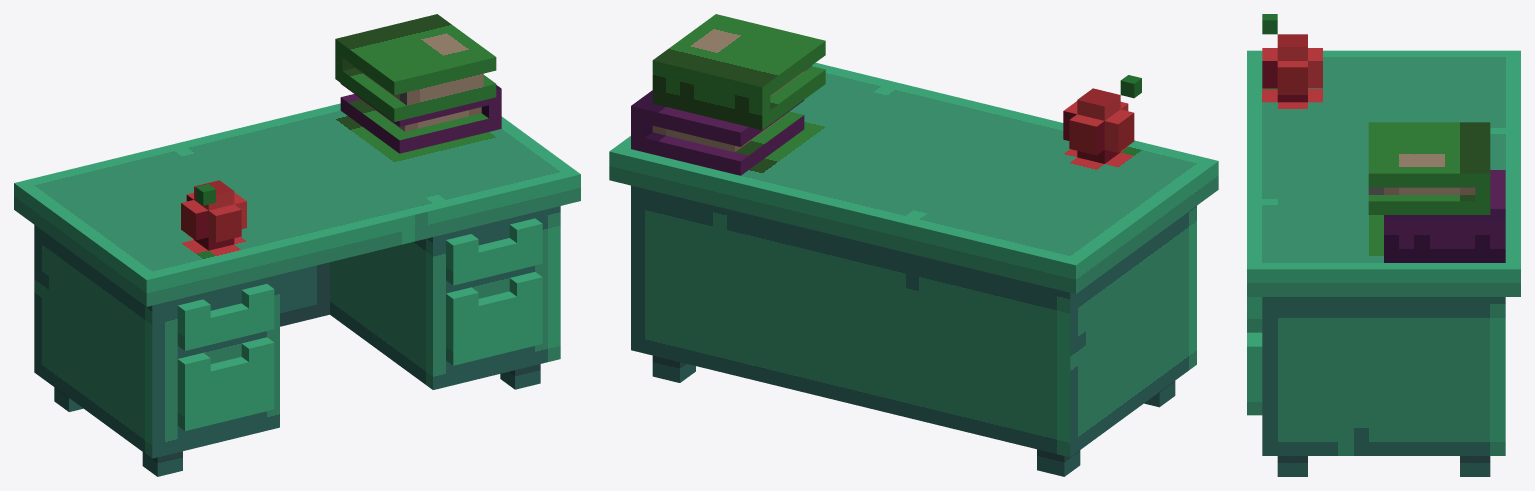
Rendered from teacher_desk_nuzuao.fezao.glb.
The picture shows the model from 3 angles, left to right: view 1: azimuth 30°, elevation 25°; view 2: azimuth 150°, elevation 25°; view 3: azimuth 270°, elevation 25°; orthographic projection. The views are drawn at different scales.
Visible parts, largest first — view 1: TEACHER_DESK_NUZUAO; view 2: TEACHER_DESK_NUZUAO; view 3: TEACHER_DESK_NUZUAO.
Boxes of the visible parts, <box> form: TEACHER_DESK_NUZUAO: <box>14,14,580,476</box>; TEACHER_DESK_NUZUAO: <box>609,14,1218,476</box>; TEACHER_DESK_NUZUAO: <box>1247,14,1520,476</box>.
Size of the model in its own units: 2.12 by 1.38 by 1.12.
1 material, 1 textured.
